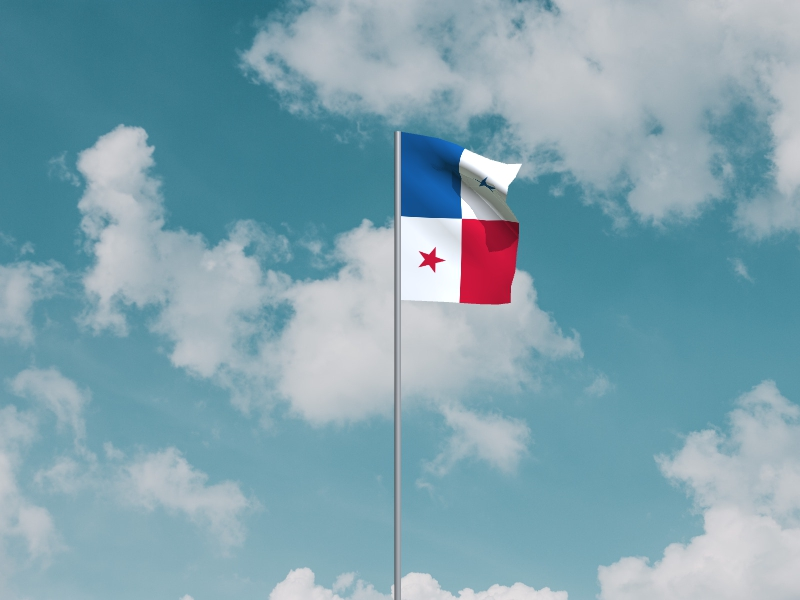pa: (402, 133, 524, 306)
